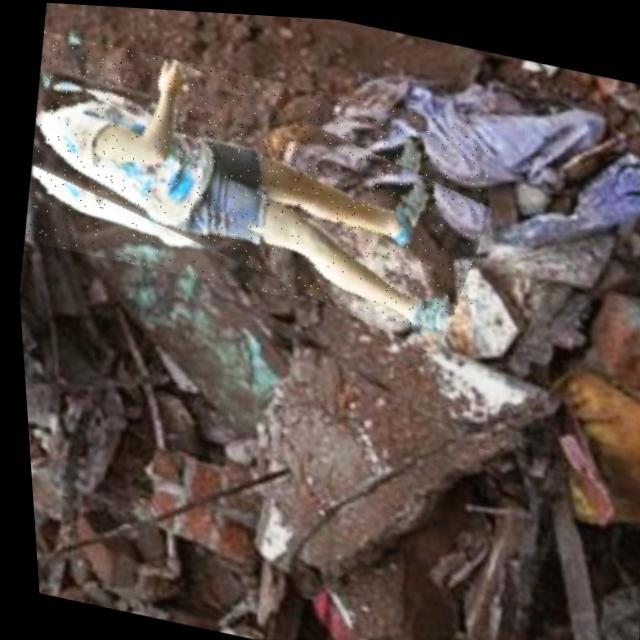Person in Rubble: (10, 28, 502, 333)
